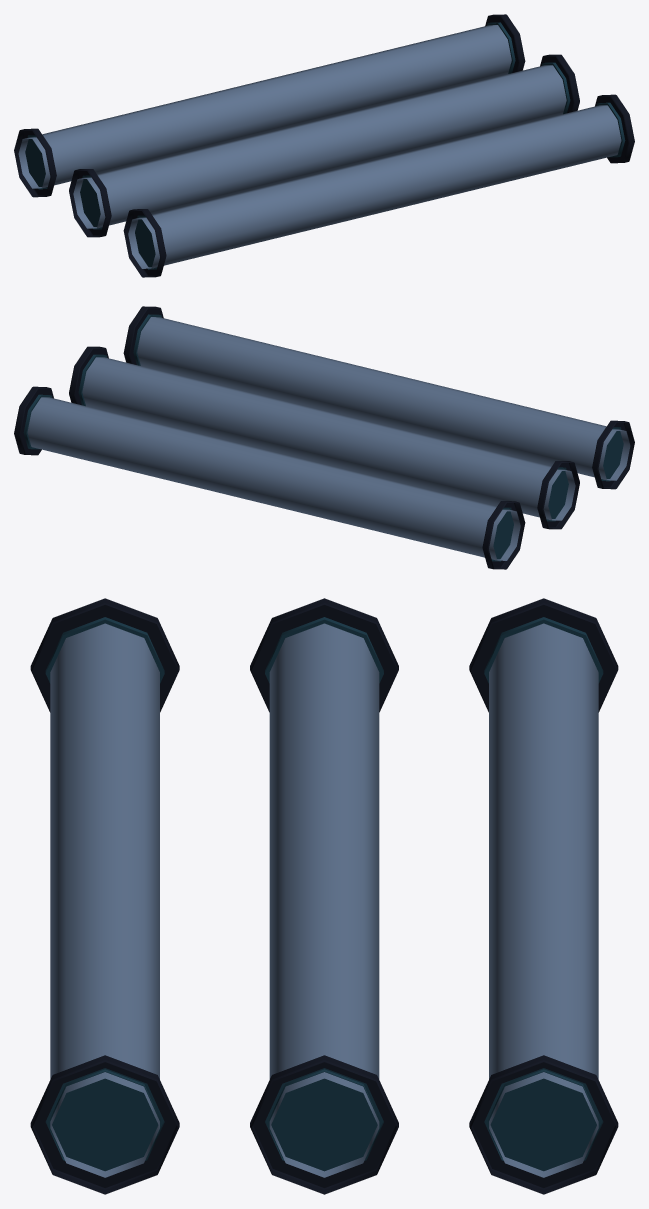
File: PipeComplexSmall_A_01.fbx
3 views of the same model, one above another, from view 1: azimuth 30°, elevation 25°; view 2: azimuth 150°, elevation 25°; view 3: azimuth 270°, elevation 25° (orthographic). The views are drawn at different scales.
Visible parts, largest first — view 1: PipeComplexSmall_A_01.001; view 2: PipeComplexSmall_A_01.001; view 3: PipeComplexSmall_A_01.001.
Part boxes in pixels (left/top/right/bottom): PipeComplexSmall_A_01.001: left=14, top=14, right=634, bottom=277; PipeComplexSmall_A_01.001: left=14, top=306, right=634, bottom=569; PipeComplexSmall_A_01.001: left=30, top=598, right=618, bottom=1194.
Size of the model in its own units: 1 by 0.1356 by 0.5356.
